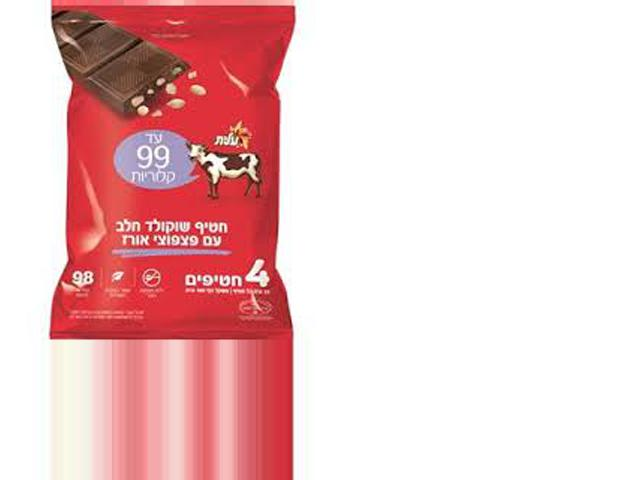chocolate: (46, 5, 284, 341)
